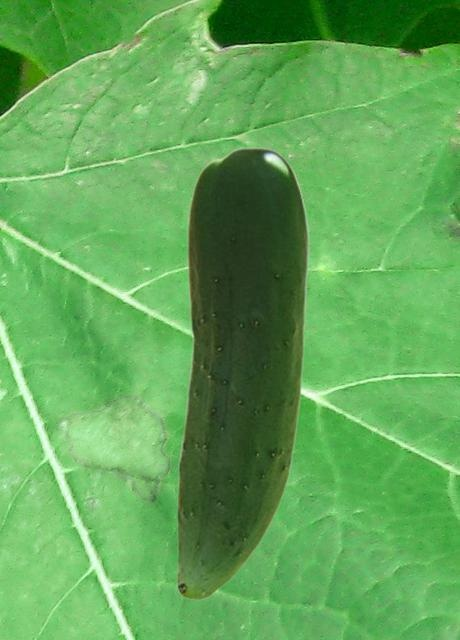cucumber: (176, 147, 308, 599)
